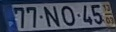4: (81, 4, 93, 26)
5: (89, 4, 103, 25)
7: (12, 6, 25, 29), (25, 6, 37, 29)
N: (42, 4, 61, 28)
O: (59, 4, 76, 27)
